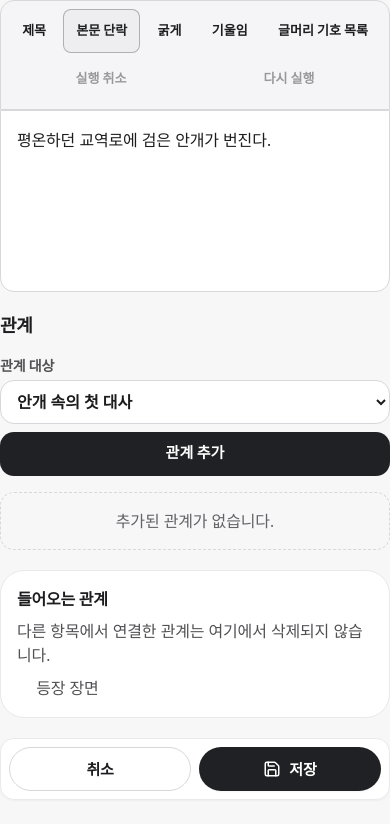
Test: common content entry flow › edits outgoing relations without deleting an incoming relation
(page scrolled)
expect the list item "등장 장면" is shown: met, box [36,678,99,698]
Click the button "관계 추가": (195, 454) [0,432,389,476]
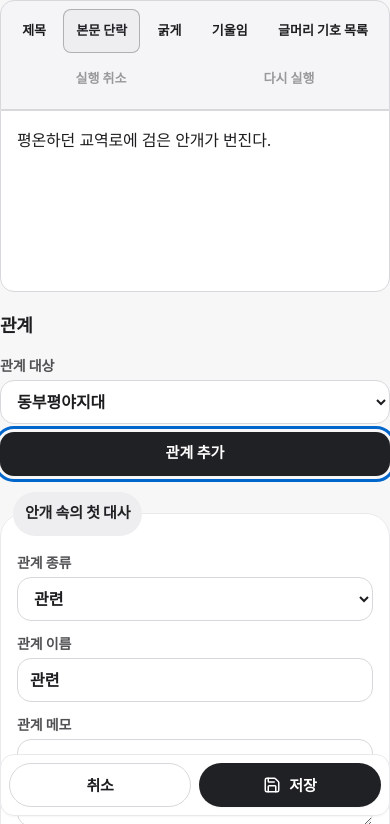
Click the button "저장": (290, 785) [199,763,381,807]
(page scrolled)
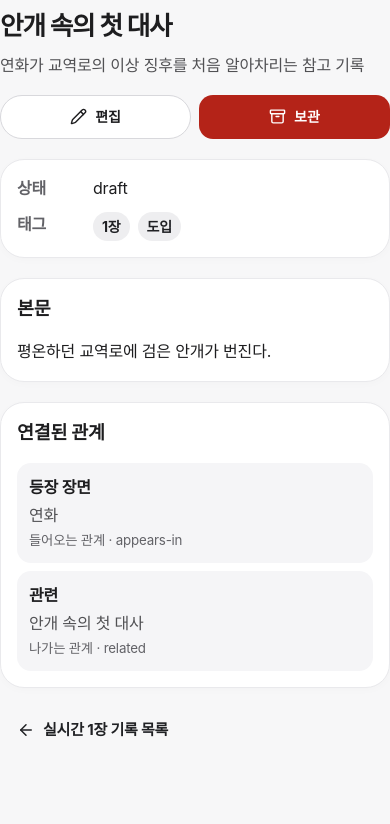
expect the heading "안개 속의 첫 대사" is shown: met, box [0,10,172,41]
